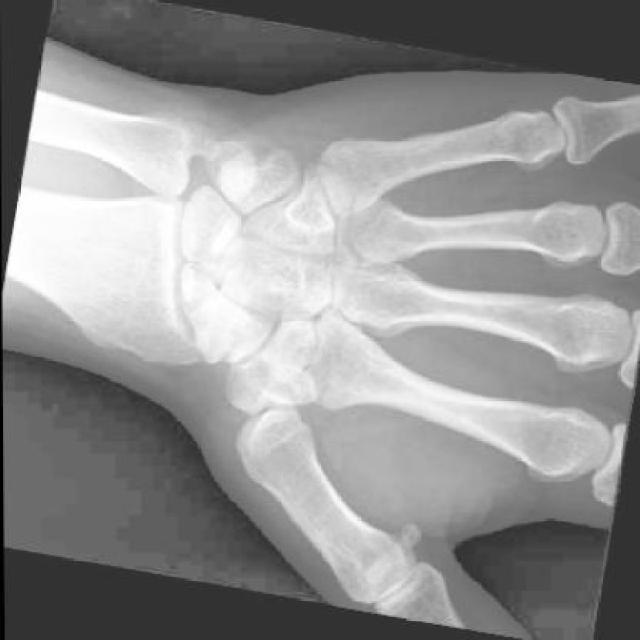Fracture: (178, 282, 218, 333)
